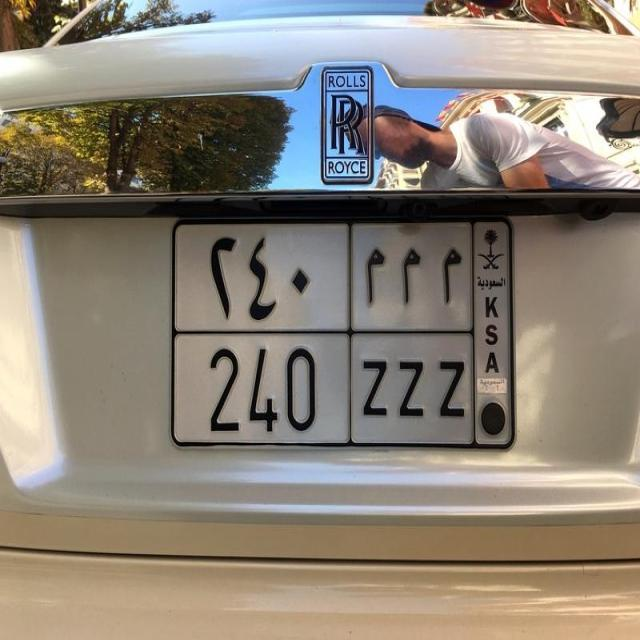license_plate: (163, 190, 542, 472)
